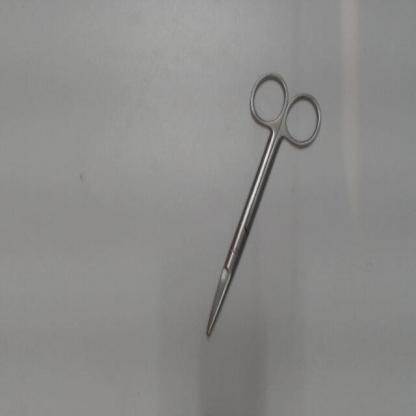Curved Mayo Scissors: (201, 66, 327, 343)
